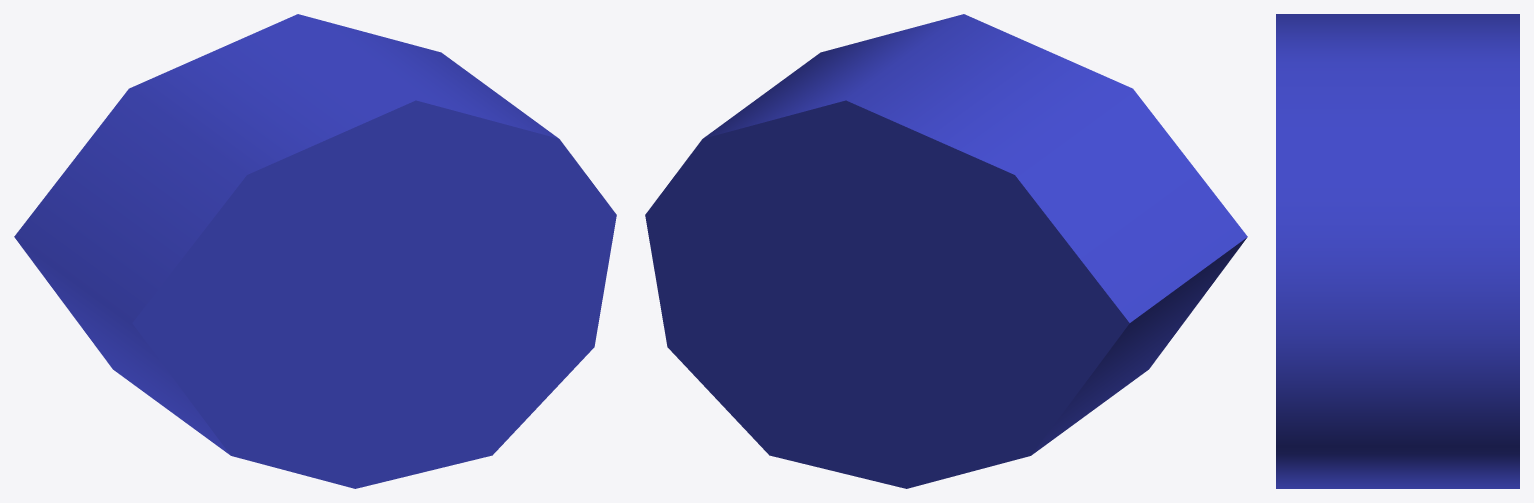
Rendered from coal2.fbx.
3 views of the same model, side by side, from view 1: azimuth 30°, elevation 25°; view 2: azimuth 150°, elevation 25°; view 3: azimuth 270°, elevation 25° (orthographic). The views are drawn at different scales.
Parts seen in each view (by area): view 1: root; view 2: root; view 3: root.
Part boxes in pixels (x1=…): root: x1=14, y1=14, x2=616, y2=488; root: x1=645, y1=14, x2=1247, y2=488; root: x1=1276, y1=14, x2=1519, y2=488.
Bounding box in the file's own units: 0.0174 × 0.0128 × 0.00736.
